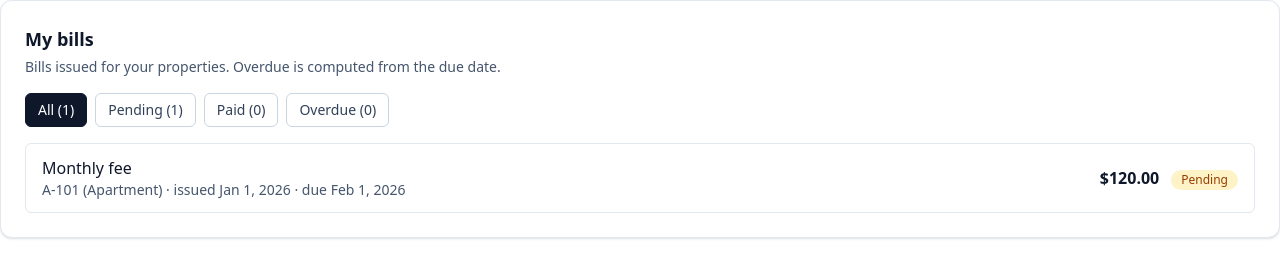
it: MyBillsSection › shows an empty message when a filter matches nothing
The image size is (1280, 256).
Expected: the list item with test id "bill-1" is shown, [25,143,1255,213]
Click the button "Paid (0)" at (241, 110), box [204,93,278,127]
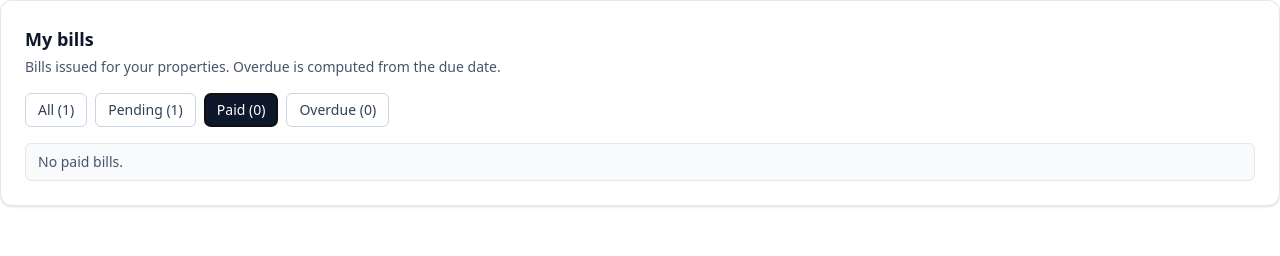
Expected: the text "No paid bills." is shown, [25,143,1255,181]
